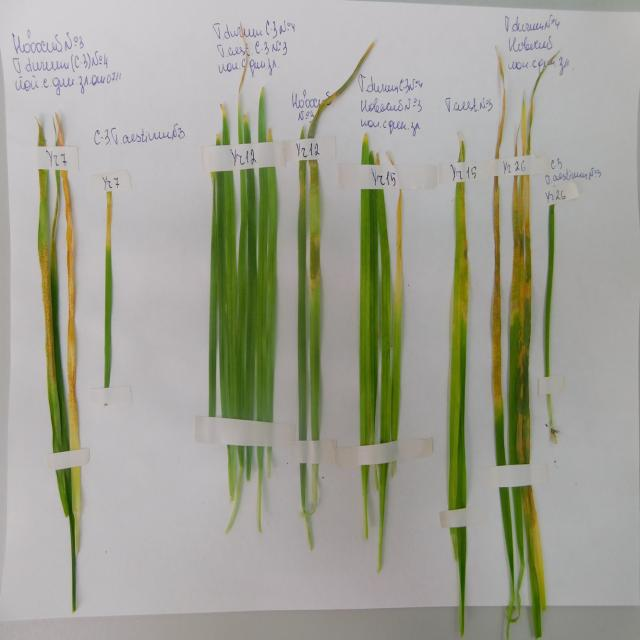wheat-yellowrust: (511, 174, 531, 356), (491, 176, 502, 413), (394, 191, 403, 315)
